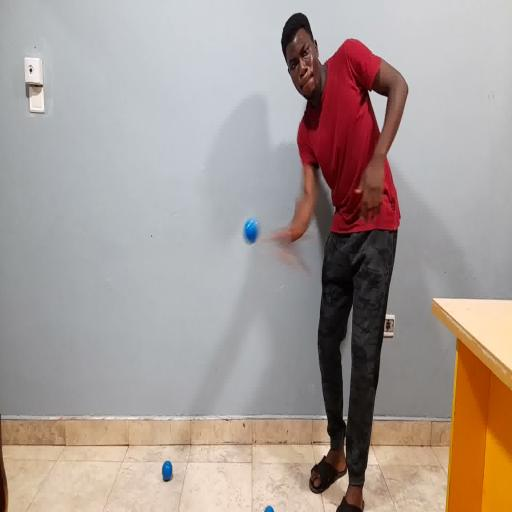plastic-ball: (240, 214, 260, 249)
